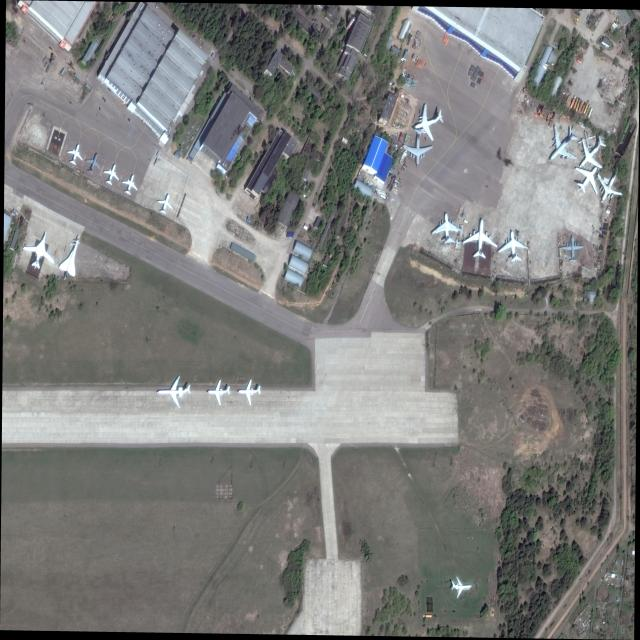plane: (536, 114, 587, 176), (570, 126, 613, 180), (20, 224, 60, 276), (590, 162, 628, 212), (570, 155, 606, 201), (56, 230, 87, 283), (410, 101, 447, 144), (463, 216, 498, 261), (403, 128, 433, 168), (156, 376, 191, 409), (430, 213, 462, 245), (497, 230, 529, 261), (207, 379, 231, 405), (560, 235, 584, 261), (154, 189, 176, 217), (101, 159, 122, 188), (237, 380, 261, 405), (120, 170, 141, 198), (65, 140, 86, 168), (83, 149, 103, 177), (451, 575, 471, 598), (577, 128, 597, 150)
